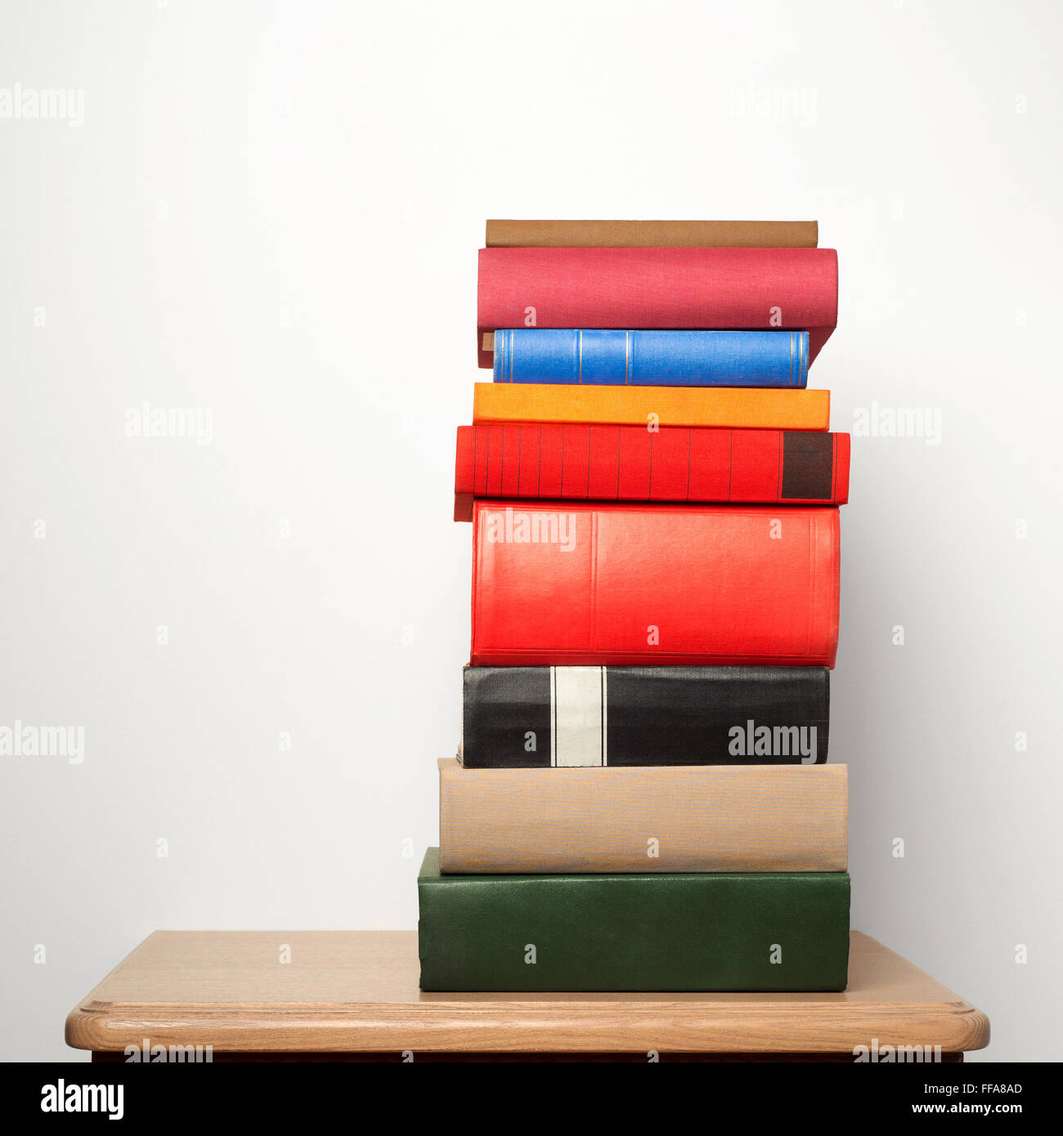not a gesture sign: (438, 758, 848, 873)
